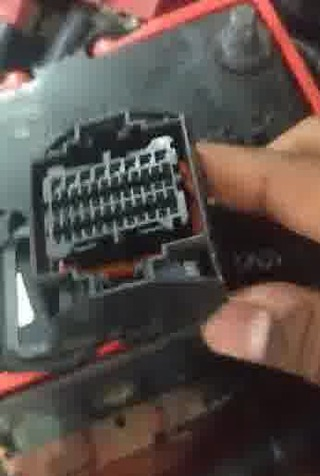connector: (29, 108, 227, 320)
